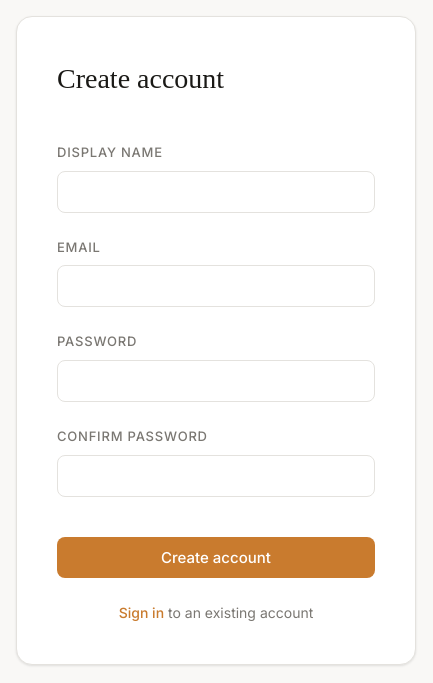
Test case: RegisterPage › advances to the verification step after signUp
Type "Alice" into the field labelled "Display name" at coordinates (216, 192), box [57, 171, 375, 213]
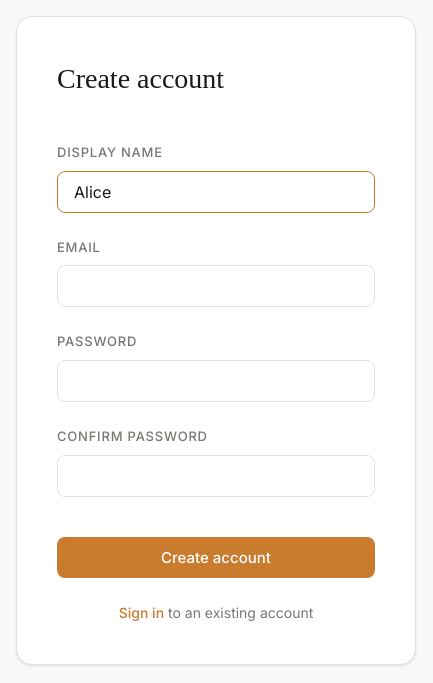
Type "alice@example.com" into the field labelled "Email" at coordinates (216, 286), box [57, 265, 375, 307]
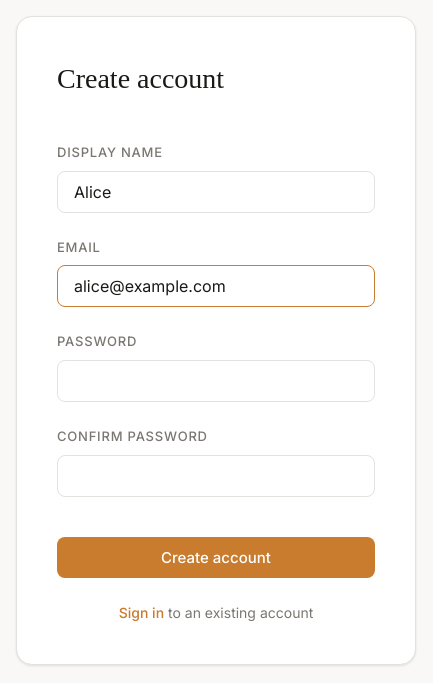
Type "Pass123!" into the password field labelled "Password" at coordinates (216, 381), box [57, 360, 375, 402]
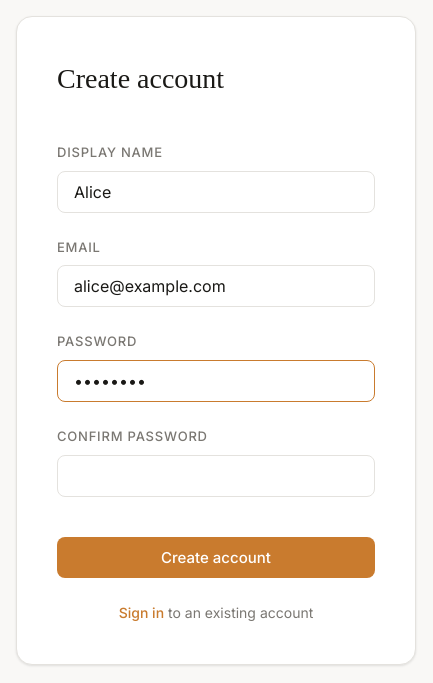
Type "Pass123!" into the password field labelled "Confirm password" at coordinates (216, 476), box [57, 455, 375, 497]
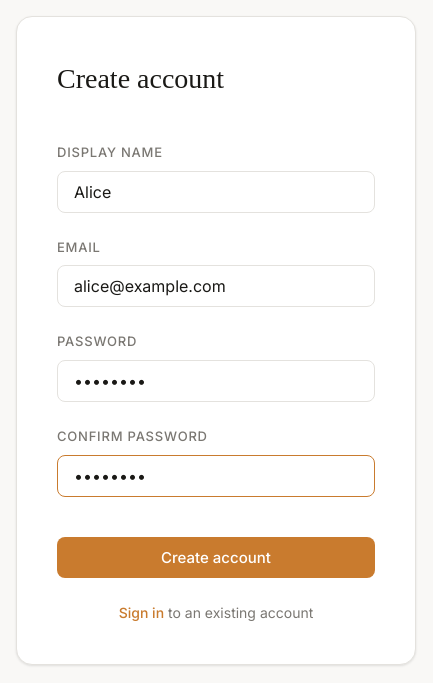
Click the button "Create account" at coordinates (216, 558), box [57, 537, 375, 578]
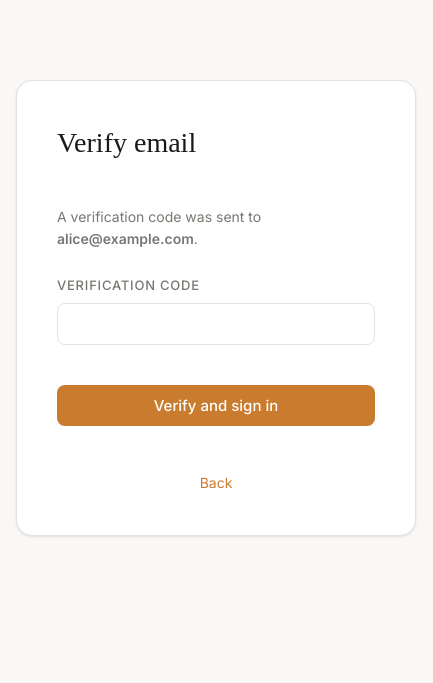
Expected: the field labelled "Verification code" is shown, [57, 304, 375, 346]
Expected: the heading "Verify email" is shown, [57, 127, 196, 158]
